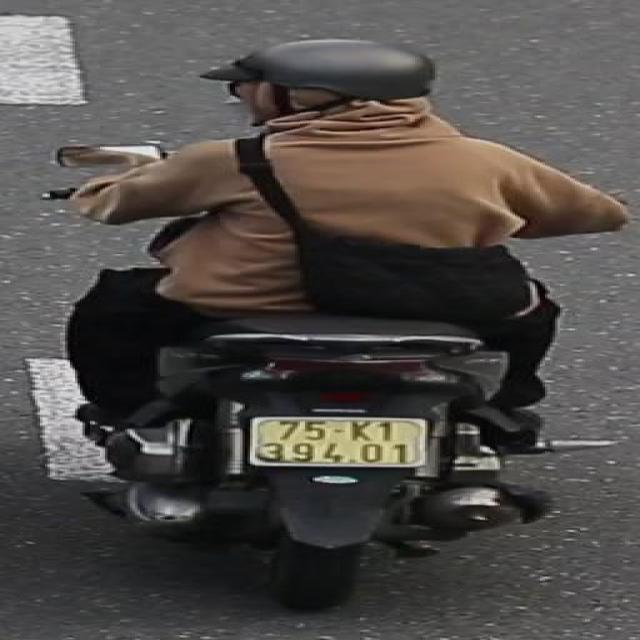LP: (242, 409, 436, 470)
helmet: (198, 34, 454, 140)
